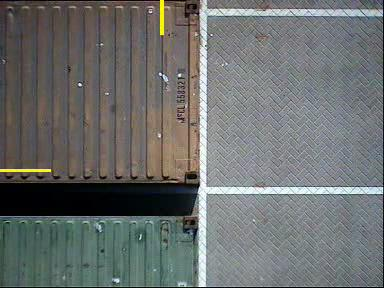groundmarker_2: (176, 144, 267, 263)
